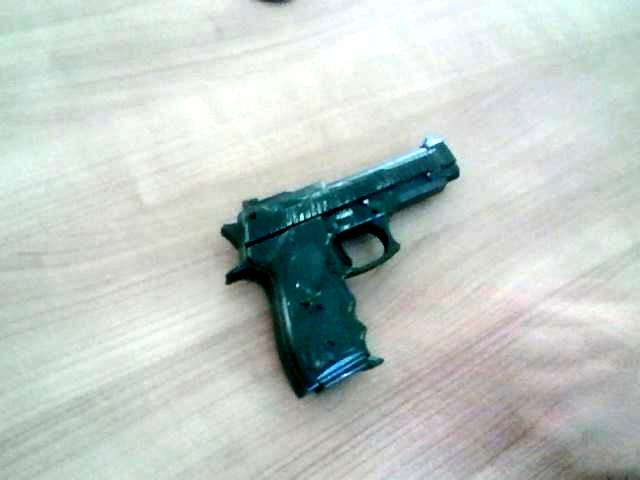pistol: (198, 125, 550, 405)
